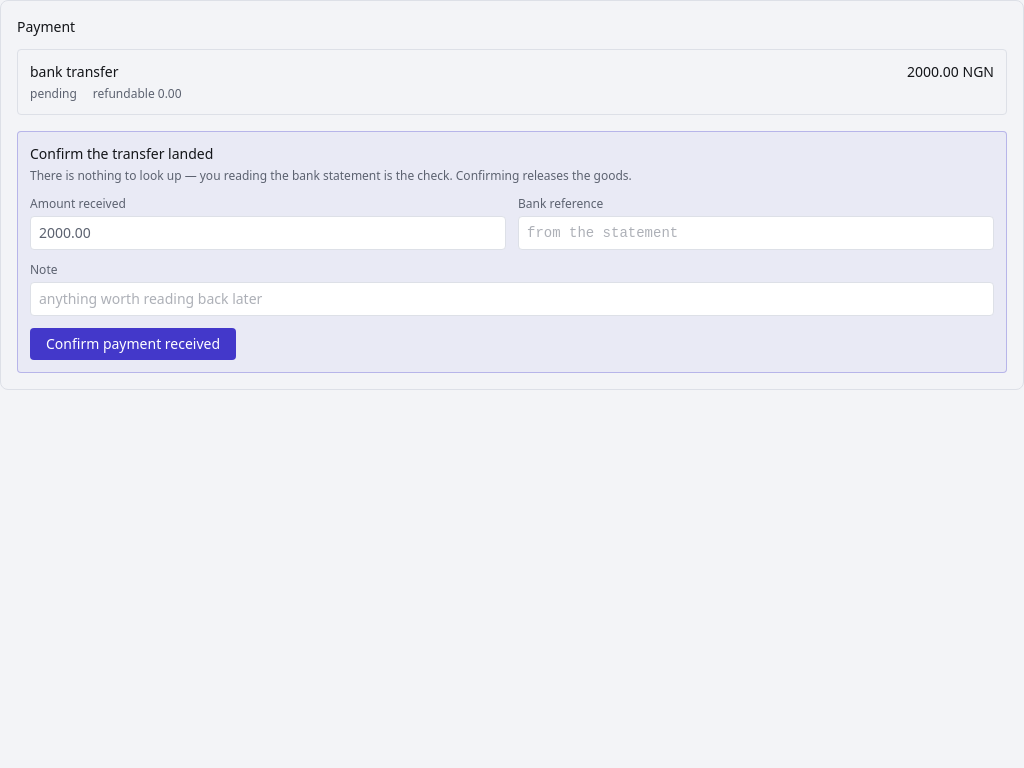
Test case: PaymentPanel › will not accept a discrepancy until a reason is written
Type "REF1" into the field labelled "Bank reference". click: (756, 233)
box: [518, 216, 994, 250]
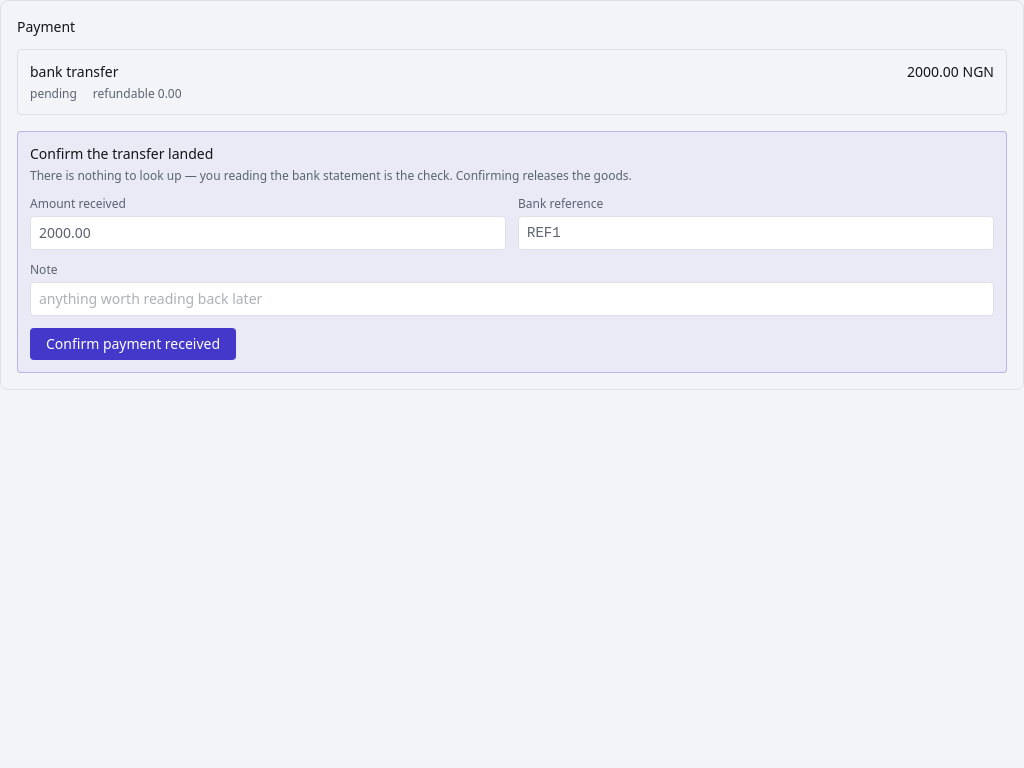
Click the button "Confirm payment received". click: (133, 344)
box: [30, 328, 236, 360]
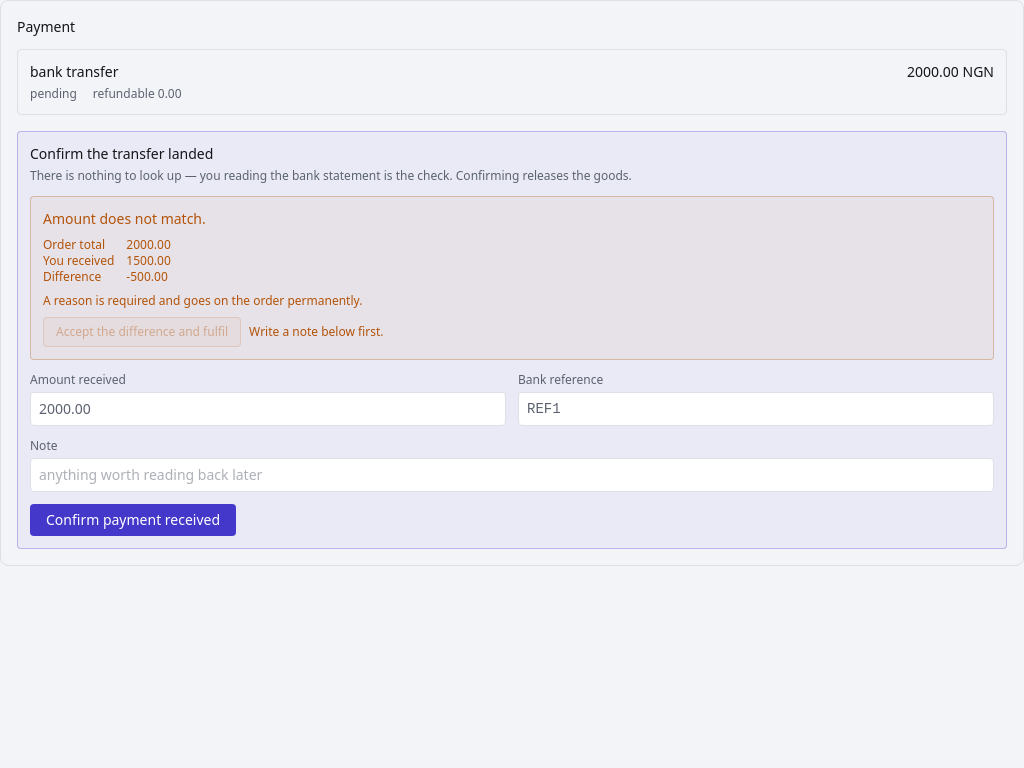
expect the text "Order total" is shown: met, box [43, 237, 126, 253]
expect the button "Accept the difference and fulfil" is disabled: met, box [43, 317, 241, 347]
